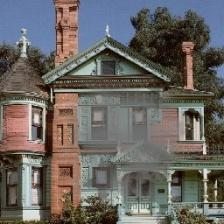fire: (67, 81, 194, 207)
